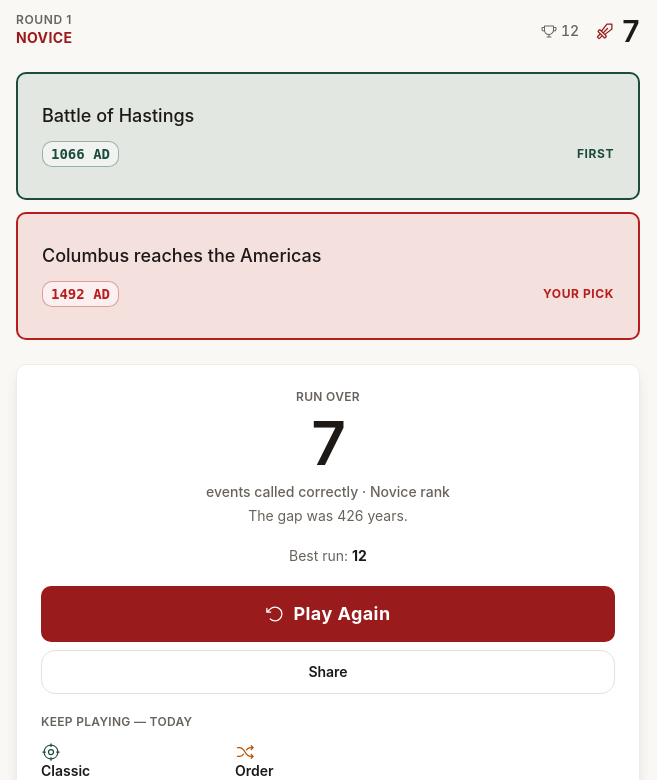
Scenario: DuelBoard — run over › shares the run summary
Click the button "Share" at [328, 672], box 41,650 -> 615,694
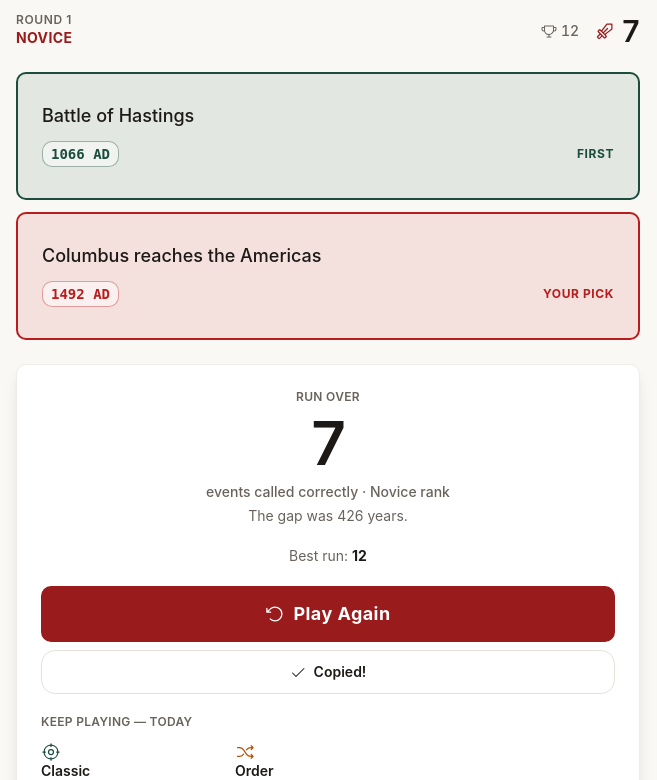
expect the button "Copied!" is shown: met, box 41,650 -> 615,694
